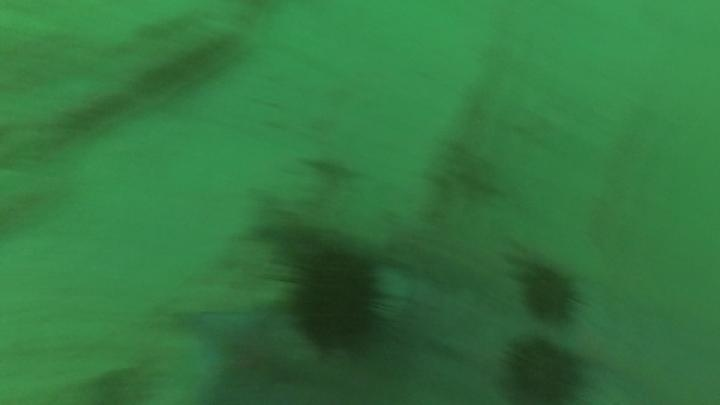echinus: (282, 243, 390, 357), (500, 334, 585, 404), (516, 258, 583, 326)
starfish: (170, 296, 318, 403)
